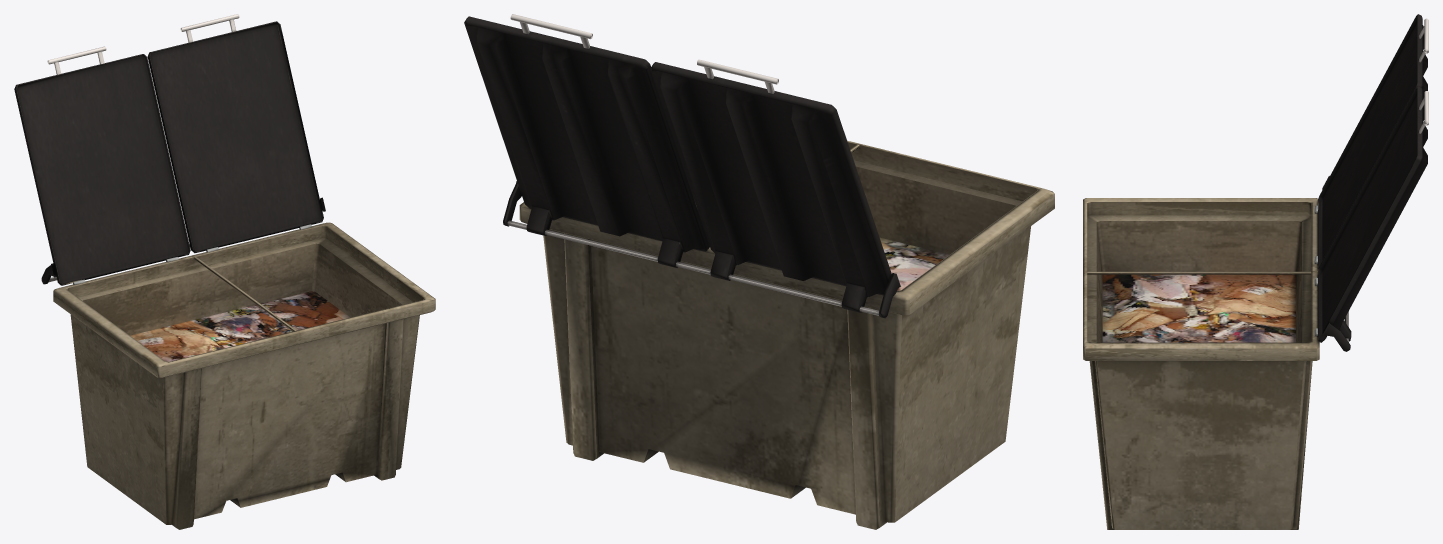
Rendered from muellcontainer_offen_0001.fbx.
3 renders of one model, left to right at view 1: azimuth 30°, elevation 25°; view 2: azimuth 150°, elevation 25°; view 3: azimuth 270°, elevation 25°, orthographic. The views are drawn at different scales.
Parts seen in each view (by area): view 1: Mesh; view 2: Mesh; view 3: Mesh.
Boxes of the visible parts, <box> form: Mesh: <box>14,14,435,529</box>; Mesh: <box>464,14,1054,529</box>; Mesh: <box>1083,14,1428,529</box>.
Bounding box in the file's own units: 246 × 304 × 237.
